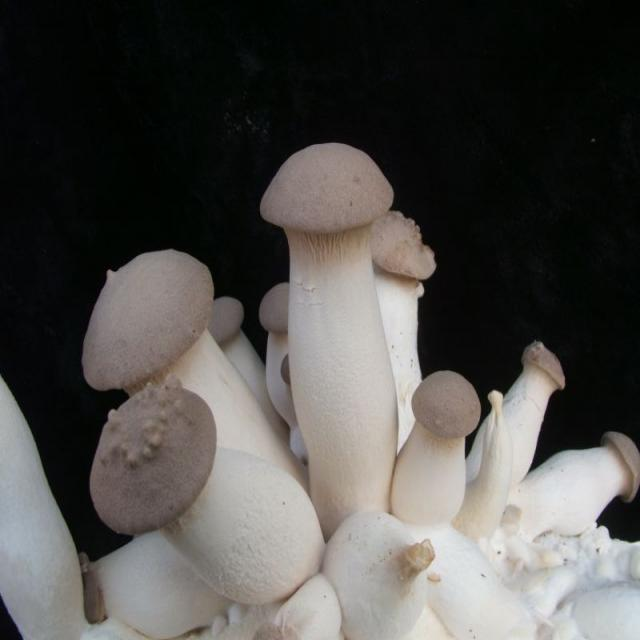Pleurotus eryngii: (80, 251, 325, 600), (262, 144, 397, 520), (466, 340, 562, 504), (390, 370, 480, 532), (509, 428, 635, 535)
